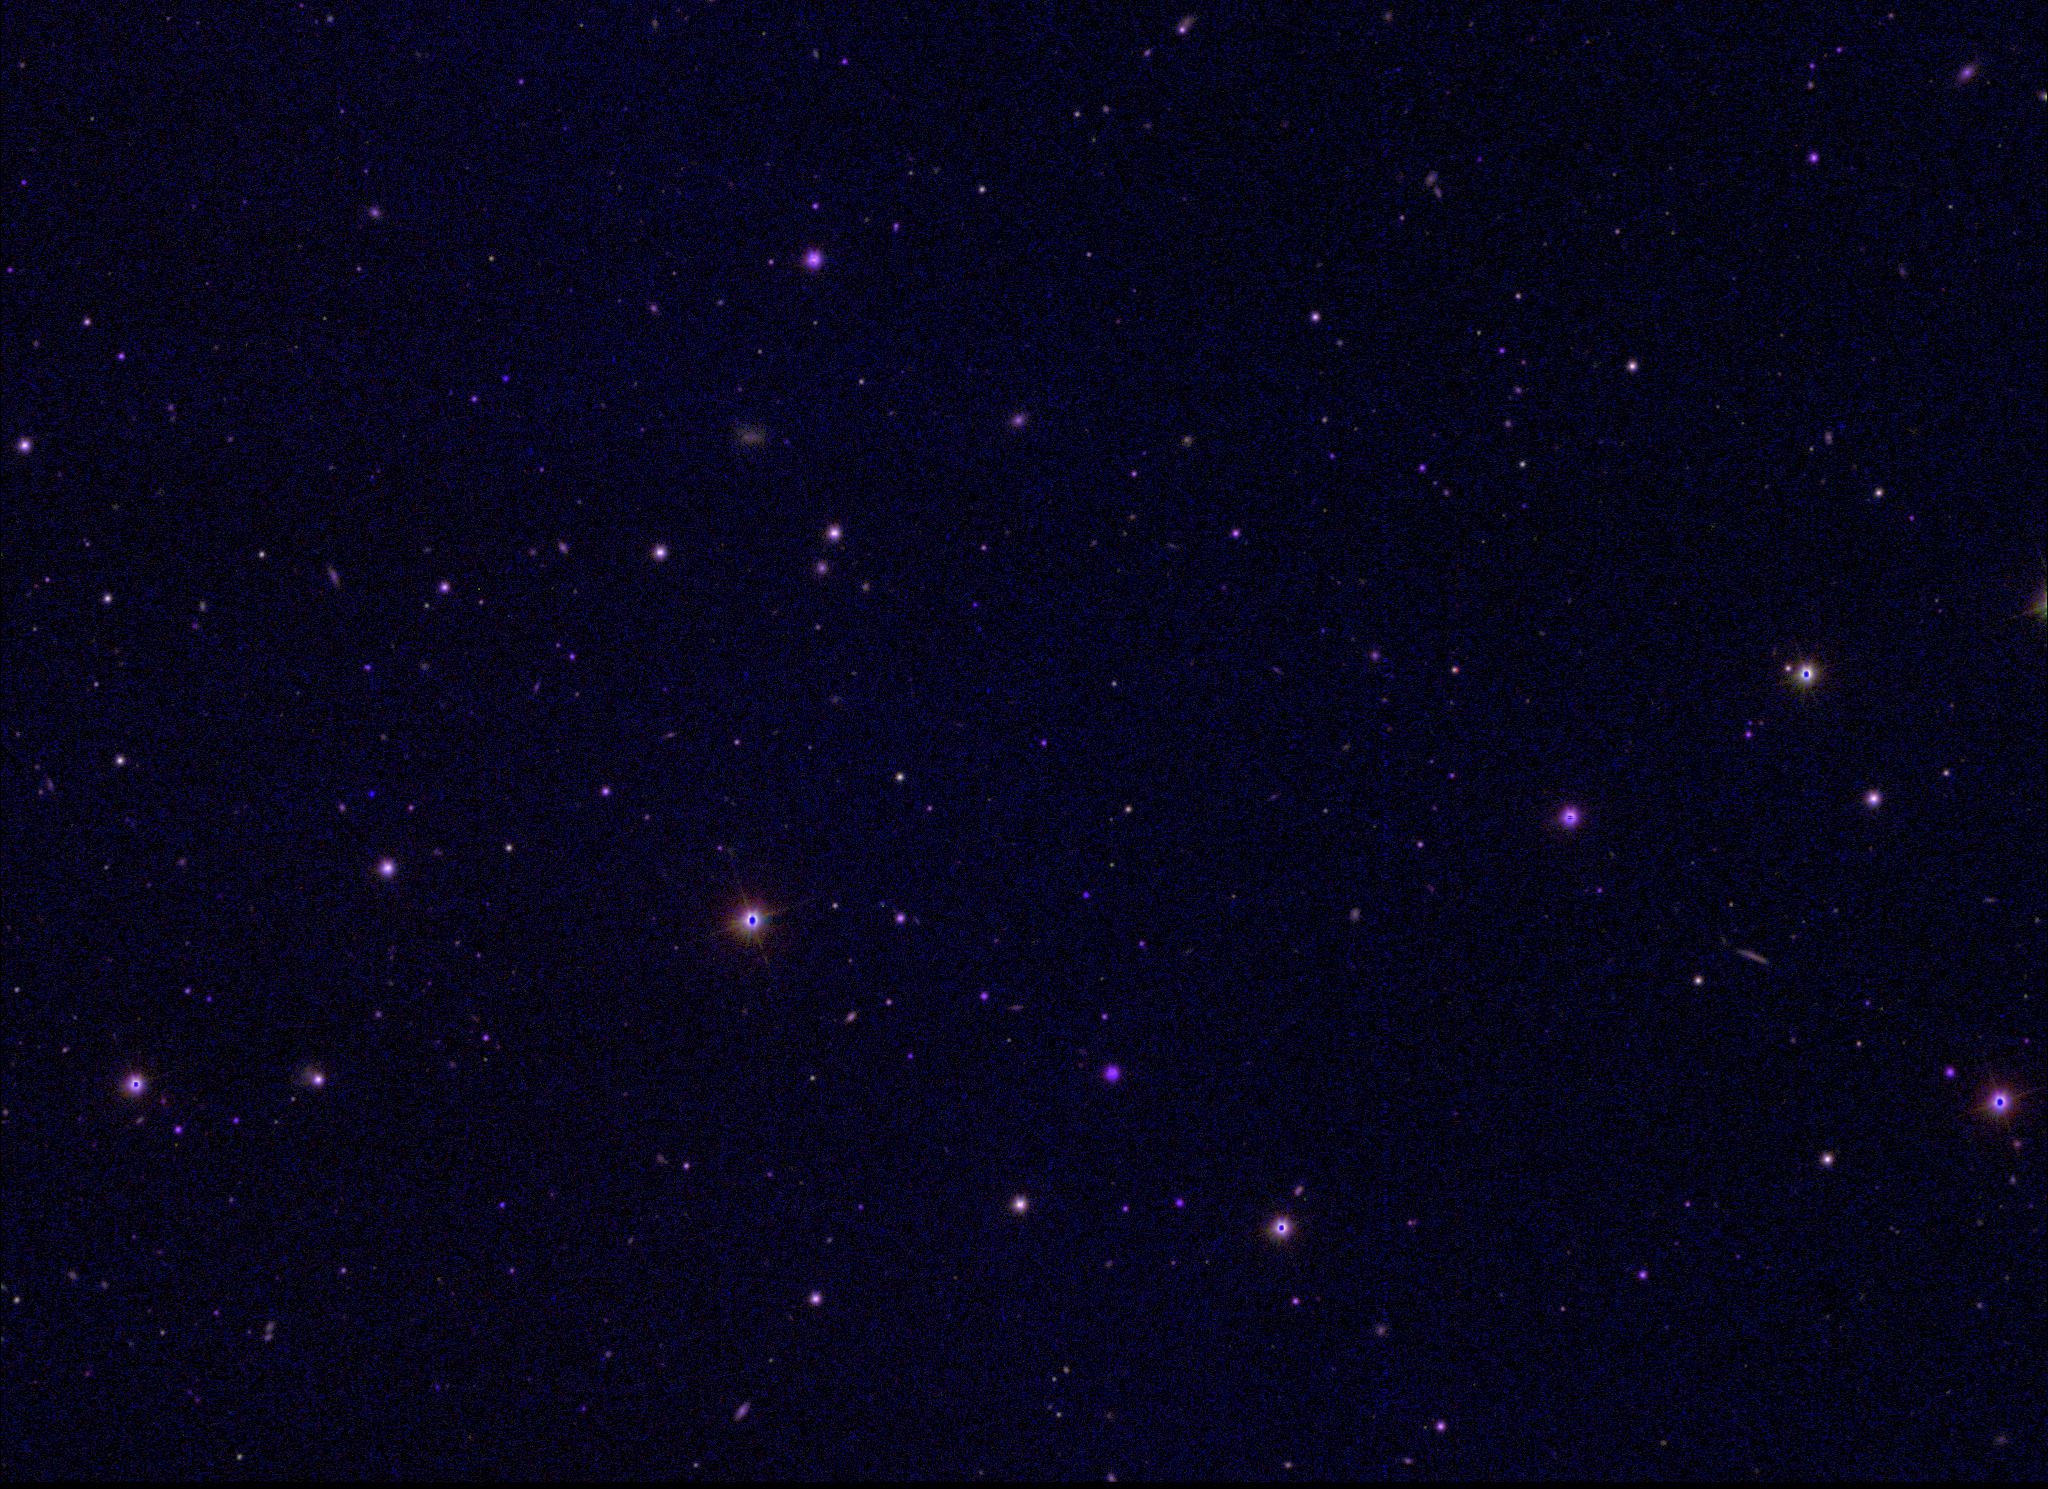L: (366, 787, 378, 802)
